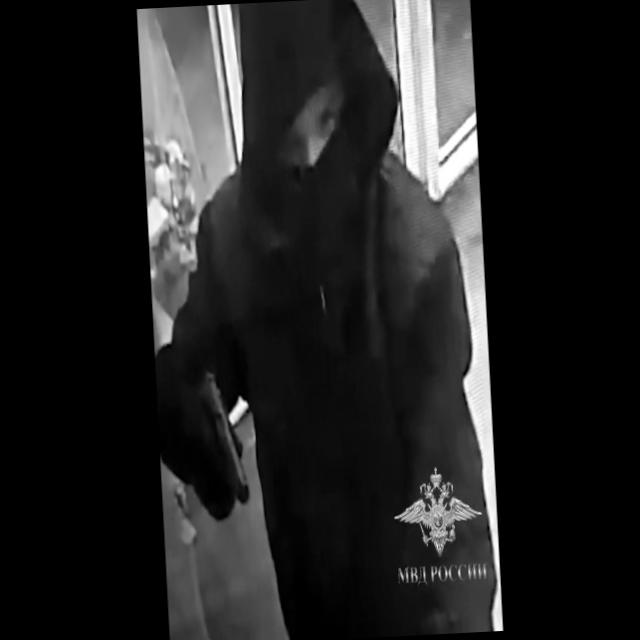gun: (196, 369, 250, 547)
person with a gun: (134, 0, 489, 640)
